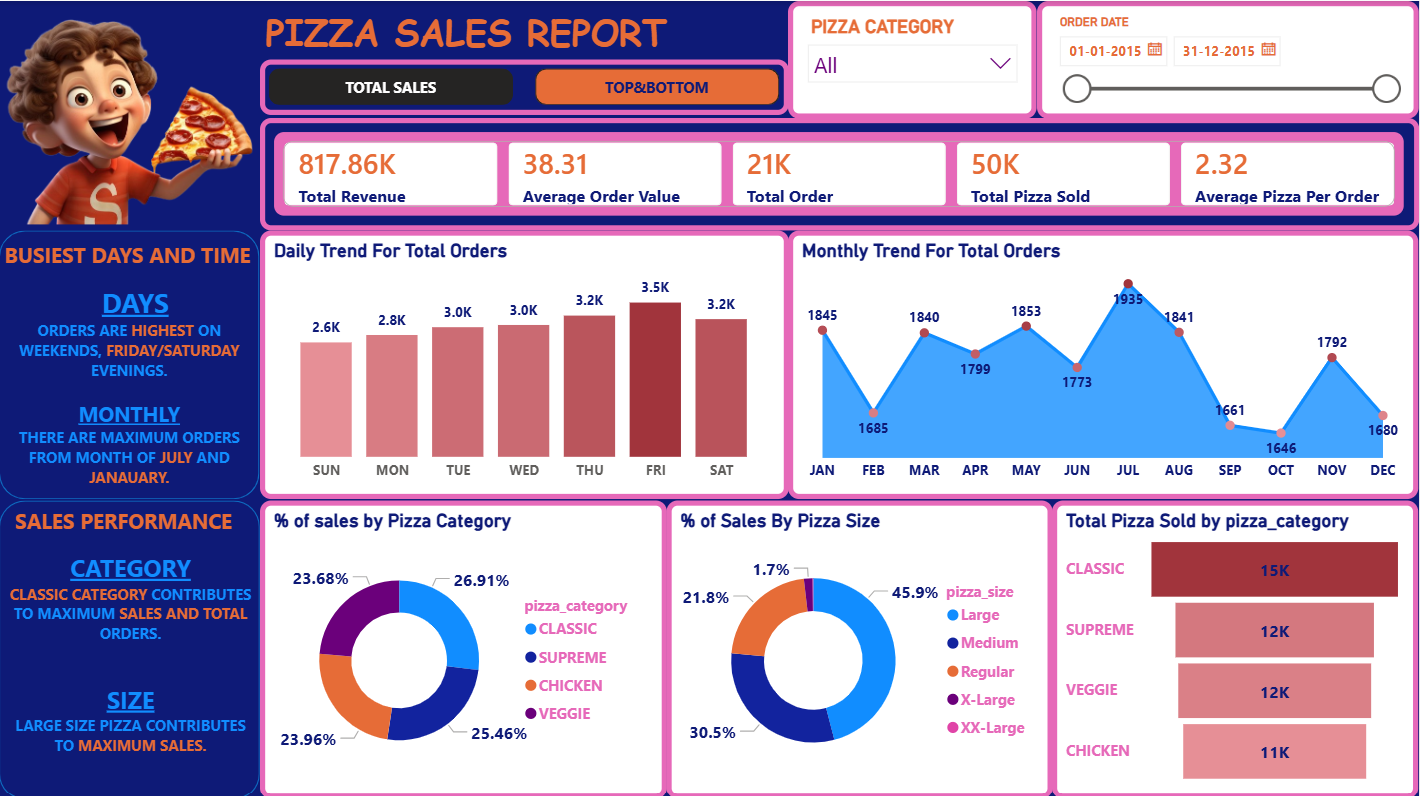

The dashboard page shown, as its layout file describes it:
{"tool":"powerbi","page":{"name":"TOTAL SALES","canvas":[1280,720],"ordinal":0},"visuals":[{"type":"cardVisual","fields":{"Data":["ALL.Total Revenue","ALL.Average Order Value","ALL.Total Order","ALL.Total Pizza Sold","ALL.Average Pizza Per Order"]},"box":[234.7,106,1044.8,101.5],"z":0},{"type":"areaChart","title":"Monthly Trend For Total Orders","fields":{"Category":["pizza_sales.Order Month"],"Y":["ALL.Total Order"]},"box":[711.7,207.4,567.8,242.3],"z":1000},{"type":"clusteredColumnChart","title":"Daily Trend For Total Orders","fields":{"Y":["ALL.Total Order"],"Category":["pizza_sales.Order Day"]},"box":[234.7,207.4,477,242.3],"z":2000},{"type":"donutChart","title":"% of sales by Pizza Category","fields":{"Category":["pizza_sales.pizza_category"],"Y":["ALL.Total Revenue"]},"box":[234.7,449.7,366.4,269.5],"z":3000},{"type":"donutChart","title":"% of Sales By Pizza Size","fields":{"Category":["pizza_sales.pizza_size"],"Y":["ALL.Total Revenue"]},"box":[601.1,449.7,348.3,269.5],"z":4000},{"type":"funnel","fields":{"Category":["pizza_sales.pizza_category"],"Y":["ALL.Total Pizza Sold"]},"box":[949.4,449.7,330.1,269.5],"z":5000},{"type":"slicer","fields":{"Values":["pizza_sales.pizza_category"]},"box":[711.7,0,224.1,106],"z":6000},{"type":"slicer","fields":{"Values":["pizza_sales.order_date"]},"box":[935.8,0,343.7,106],"z":7000},{"type":"textbox","box":[234.7,0,477,63.6],"z":8000},{"type":"image","box":[0,0,234.7,207.4],"z":9000},{"type":"shape","box":[0,207.4,234.7,242.3],"z":10000},{"type":"textbox","box":[0,210.5,234.7,39.4],"z":11000},{"type":"textbox","box":[0,249.8,234.7,199.9],"z":12000},{"type":"shape","box":[0,450,235,270],"z":13000},{"type":"textbox","box":[9.1,449.7,219.6,40.9],"z":14000},{"type":"textbox","box":[3,490.6,231.7,209],"z":15000},{"type":"pageNavigator","box":[234.7,53,477,50],"z":16000}]}

Visuals, with their boxes in screenshot pixels (x1, y1, x2, y2), scaled from the page's 1280x720 canvas onto the 1420x796 screenshot:
cardVisual - ALL.Total Revenue x ALL.Average Order Value: l=260, t=117, r=1419, b=229
"Monthly Trend For Total Orders" areaChart: l=790, t=229, r=1419, b=497
"Daily Trend For Total Orders" clusteredColumnChart: l=260, t=229, r=790, b=497
"% of sales by Pizza Category" donutChart: l=260, t=497, r=667, b=795
"% of Sales By Pizza Size" donutChart: l=667, t=497, r=1053, b=795
funnel - pizza_sales.pizza_category x ALL.Total Pizza Sold: l=1053, t=497, r=1419, b=795
slicer - pizza_sales.pizza_category: l=790, t=0, r=1038, b=117
slicer - pizza_sales.order_date: l=1038, t=0, r=1419, b=117
textbox: l=260, t=0, r=790, b=70
image: l=0, t=0, r=260, b=229
shape: l=0, t=229, r=260, b=497
textbox: l=0, t=233, r=260, b=276
textbox: l=0, t=276, r=260, b=497
shape: l=0, t=498, r=261, b=795
textbox: l=10, t=497, r=254, b=542
textbox: l=3, t=542, r=260, b=773
pageNavigator: l=260, t=59, r=790, b=114
